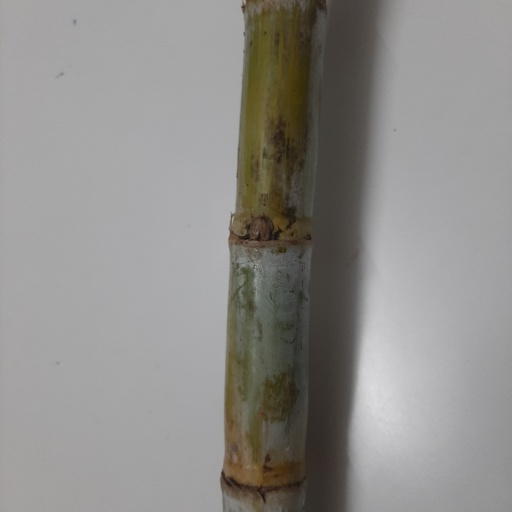Bud: (246, 216, 271, 243)
